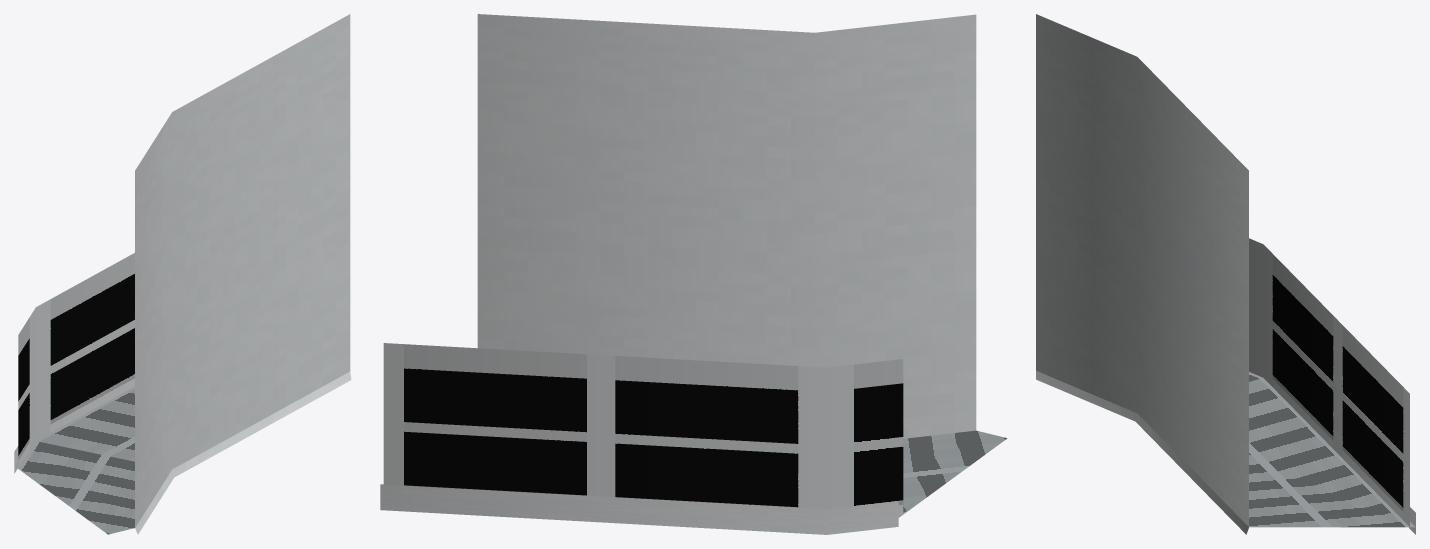
The model's file is bowl_medium_1_1_0.obj.
3 views of the same model, side by side, from view 1: azimuth 30°, elevation 25°; view 2: azimuth 150°, elevation 25°; view 3: azimuth 270°, elevation 25° (orthographic). The views are drawn at different scales.
Parts seen in each view (by area): view 1: bowl_medium_1_1_0; view 2: bowl_medium_1_1_0; view 3: bowl_medium_1_1_0.
Part boxes in pixels (x1,y1,x2,y2): bowl_medium_1_1_0: [14, 14, 351, 534]; bowl_medium_1_1_0: [380, 14, 1007, 534]; bowl_medium_1_1_0: [1036, 14, 1415, 534].
Size of the model in its own units: 3 by 3 by 2.83.
